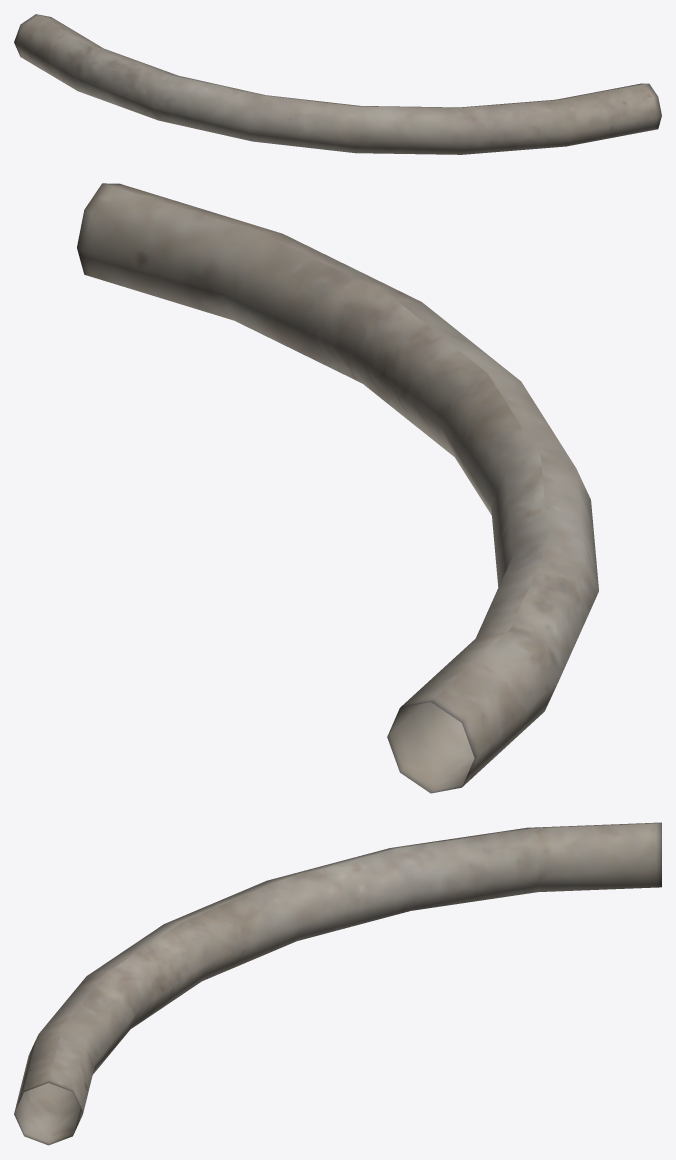
File: curtain_railing_turn_noroof.dae
3 views of the same model, one above another, from view 1: azimuth 30°, elevation 25°; view 2: azimuth 150°, elevation 25°; view 3: azimuth 270°, elevation 25° (orthographic). The views are drawn at different scales.
Parts seen in each view (by area): view 1: Geometry_mesh032Node; view 2: Geometry_mesh032Node; view 3: Geometry_mesh032Node.
Part boxes in pixels (x1=…): Geometry_mesh032Node: x1=14, y1=14, x2=661, y2=154; Geometry_mesh032Node: x1=77, y1=183, x2=598, y2=793; Geometry_mesh032Node: x1=14, y1=822, x2=661, y2=1145.
Bounding box in the file's own units: 0.6602 × 0.0704 × 0.6602.
